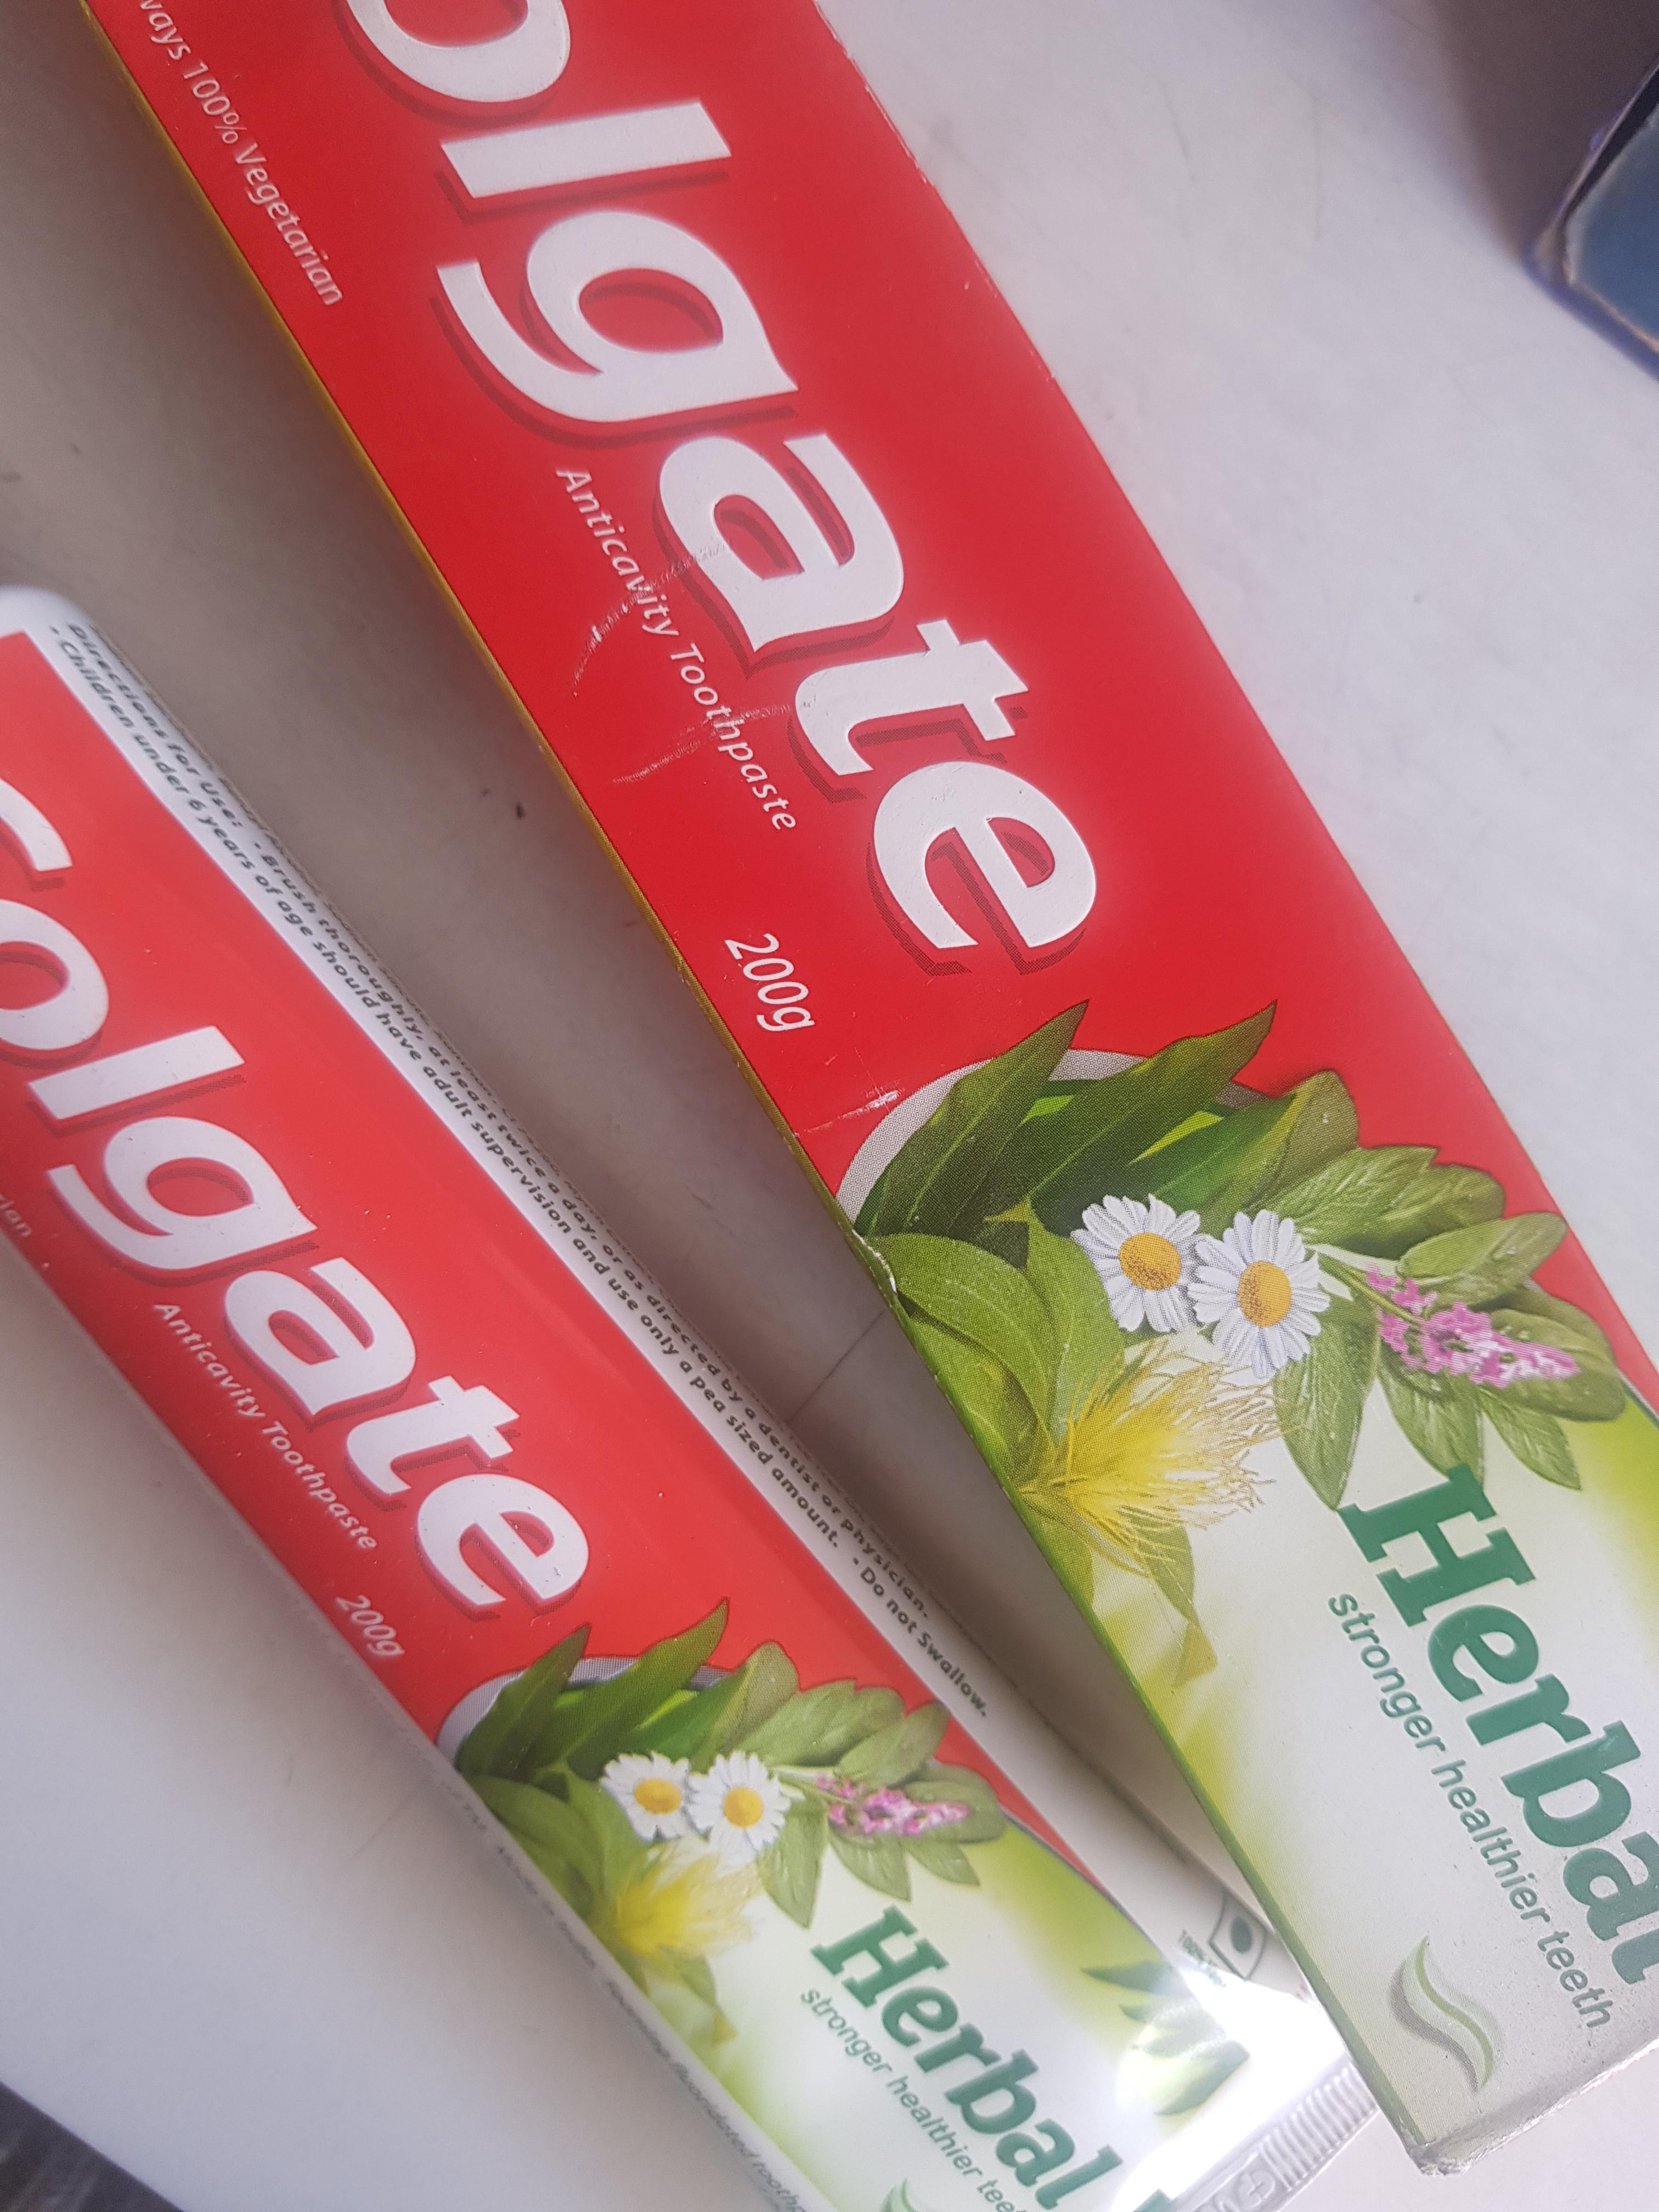toothpaste: (68, 0, 1659, 2149), (2, 491, 1298, 2212)
